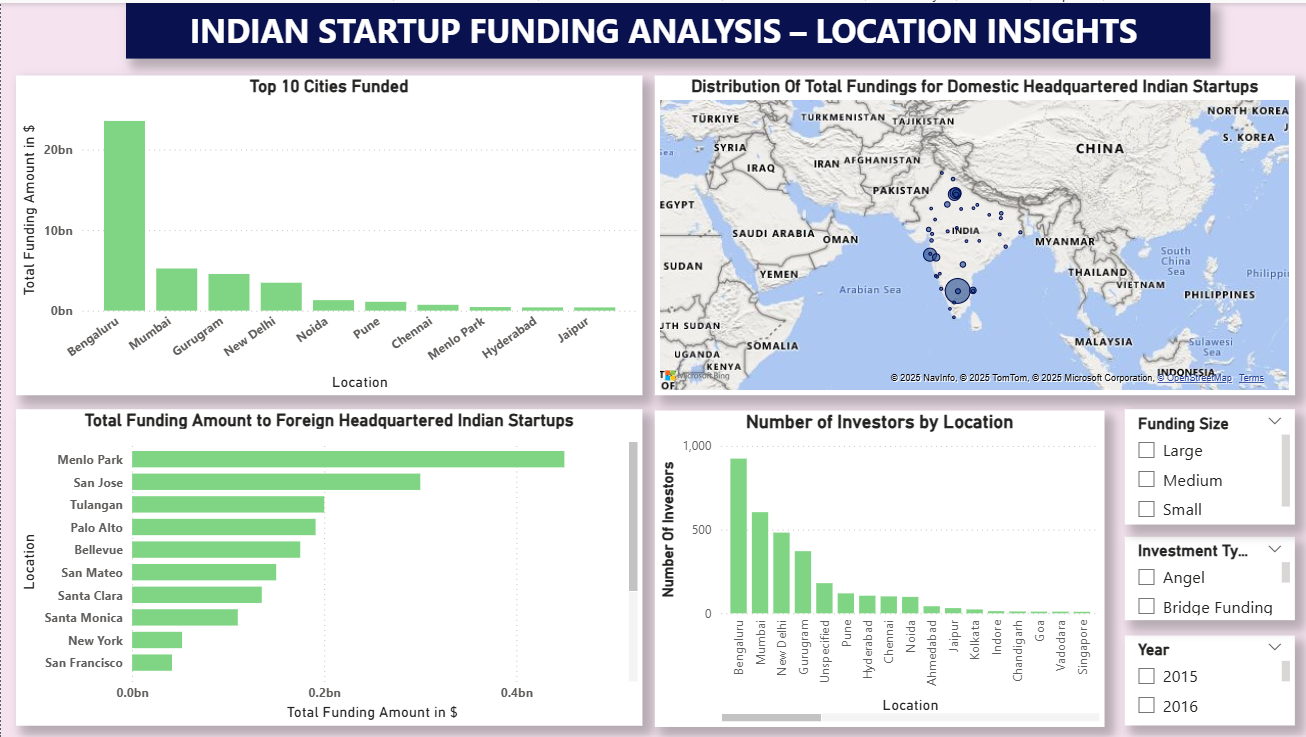

The dashboard page shown, as its layout file describes it:
{"tool":"powerbi","page":{"name":"Location Insights","canvas":[1280,720],"ordinal":2},"visuals":[{"type":"textbox","box":[122.6,0,1060.5,54.2],"z":0},{"type":"columnChart","title":"Top 10 Cities Funded","fields":{"Category":["indian_startup_funding csv.Location"],"Y":["Sum(indian_startup_funding csv.Amount in USD)"]},"box":[14.7,70.9,612.6,313],"z":1000},{"type":"map","title":"Distribution Of Total Fundings for Domestic Headquartered Indian Startups","fields":{"Size":["Sum(indian_startup_funding csv.Amount in USD)"],"Category":["indian_startup_funding csv.Location"]},"box":[639.5,70.9,626.1,313],"z":2000},{"type":"barChart","title":"Total Funding Amount to Foreign Headquartered Indian Startups","fields":{"Category":["indian_startup_funding csv.Location"],"Y":["Sum(indian_startup_funding csv.Amount in USD)"]},"box":[14.7,397.4,612.6,309.4],"z":3000},{"type":"slicer","fields":{"Values":["indian_startup_funding csv.Date.Variation.Date Hierarchy.Year"]},"box":[1099.3,618.8,166.3,88],"z":4000},{"type":"slicer","fields":{"Values":["indian_startup_funding csv.Investment Type"]},"box":[1099.3,522.1,166.3,81.9],"z":5000},{"type":"slicer","fields":{"Values":["indian_startup_funding csv.Funding Size"]},"box":[1099.3,397.4,166.3,112.5],"z":6000},{"type":"columnChart","title":"Number of Investors by Location","fields":{"Category":["indian_startup_funding csv.Location"],"Y":["CountNonNull(indian_startup_funding csv.Investors)"]},"box":[639.5,398.6,440.2,309.4],"z":6001}]}

Visuals, with their boxes in screenshot pixels (x1, y1, x2, y2), scaled from the page's 1280x720 canvas onto the 1306x737 screenshot:
textbox: x1=125, y1=0, x2=1207, y2=55
"Top 10 Cities Funded" columnChart: x1=15, y1=73, x2=640, y2=393
"Distribution Of Total Fundings for Domestic Headquartered Indian Startups" map: x1=652, y1=73, x2=1291, y2=393
"Total Funding Amount to Foreign Headquartered Indian Startups" barChart: x1=15, y1=407, x2=640, y2=723
slicer - indian_startup_funding csv.Date.Variation.Date Hierarchy.Year: x1=1122, y1=633, x2=1291, y2=723
slicer - indian_startup_funding csv.Investment Type: x1=1122, y1=534, x2=1291, y2=618
slicer - indian_startup_funding csv.Funding Size: x1=1122, y1=407, x2=1291, y2=522
"Number of Investors by Location" columnChart: x1=652, y1=408, x2=1102, y2=725
